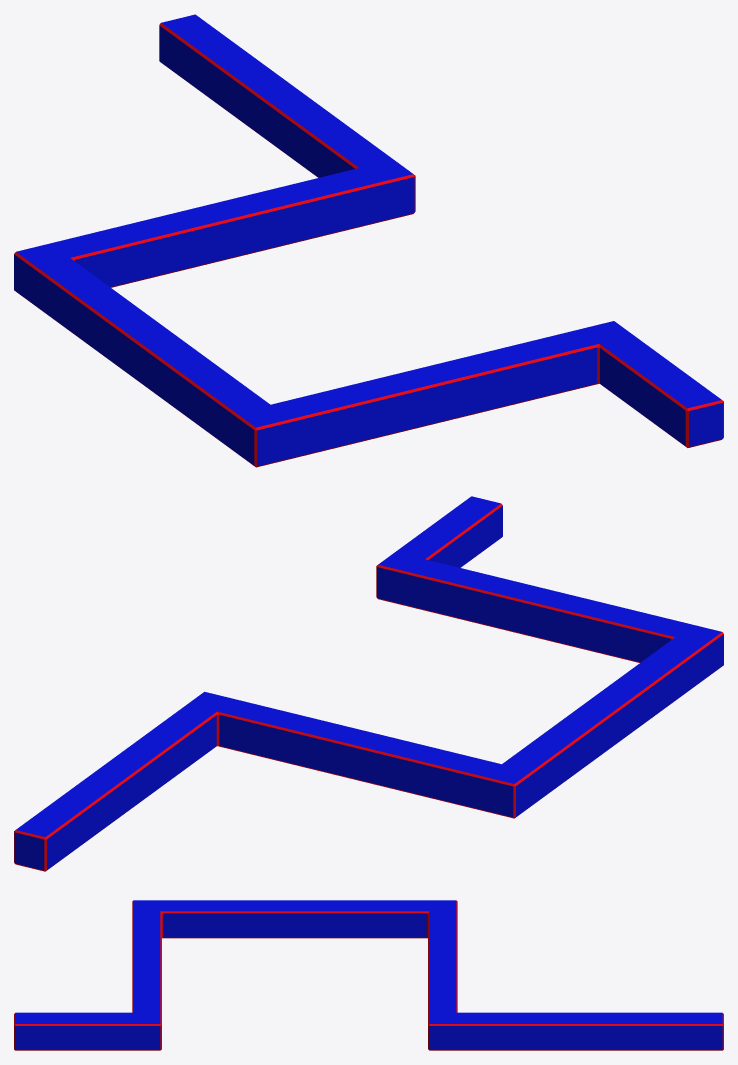
File: L3_Thin_Platform.fbx
3 views of the same model, one above another, from view 1: azimuth 30°, elevation 25°; view 2: azimuth 150°, elevation 25°; view 3: azimuth 270°, elevation 25° (orthographic). The views are drawn at different scales.
Parts seen in each view (by area): view 1: L3_Thin_Platform; view 2: L3_Thin_Platform; view 3: L3_Thin_Platform.
Part boxes in pixels (<box>): L3_Thin_Platform: <box>14,14,723,467</box>; L3_Thin_Platform: <box>14,496,723,871</box>; L3_Thin_Platform: <box>14,900,723,1050</box>.
Size of the model in its own units: 1000 by 100 by 2400.
